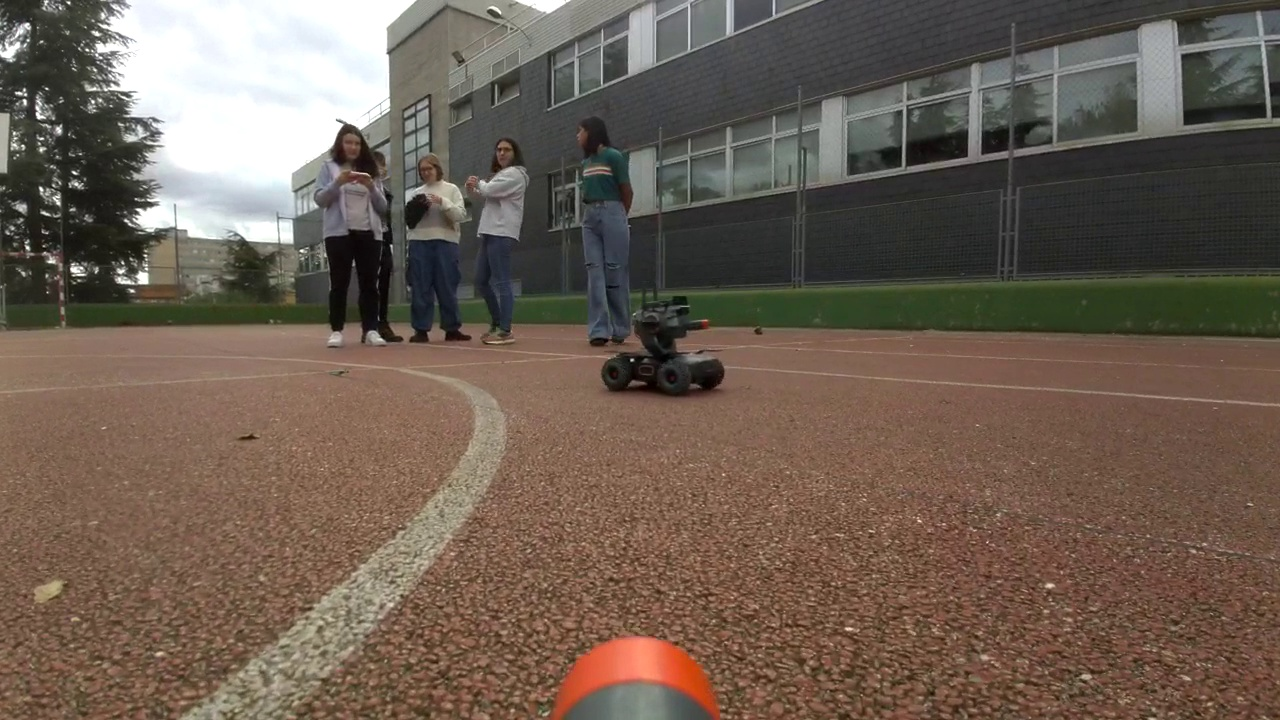robot: (602, 296, 725, 396)
